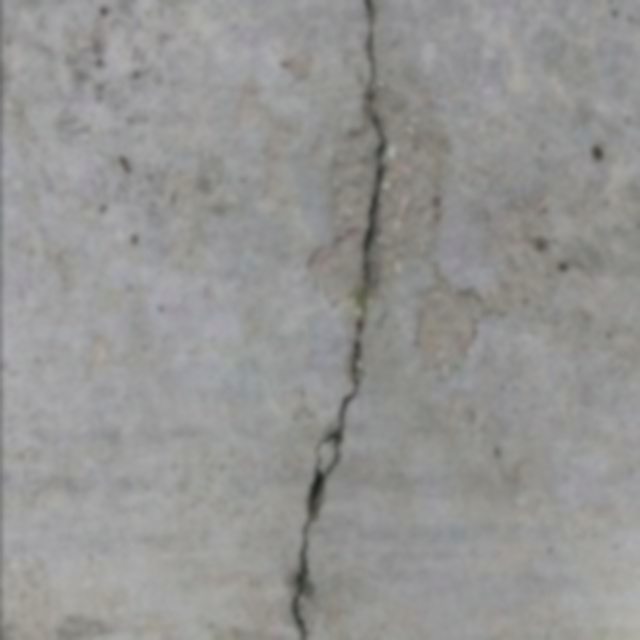SurfaceCrack: (258, 0, 434, 636)
